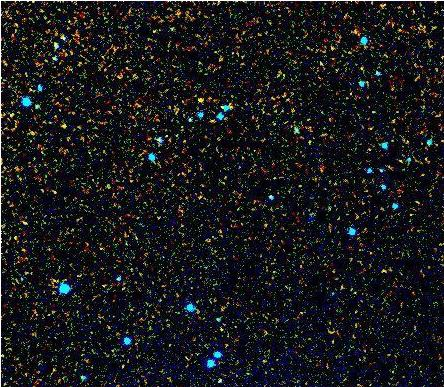star: (184, 85, 214, 115)
